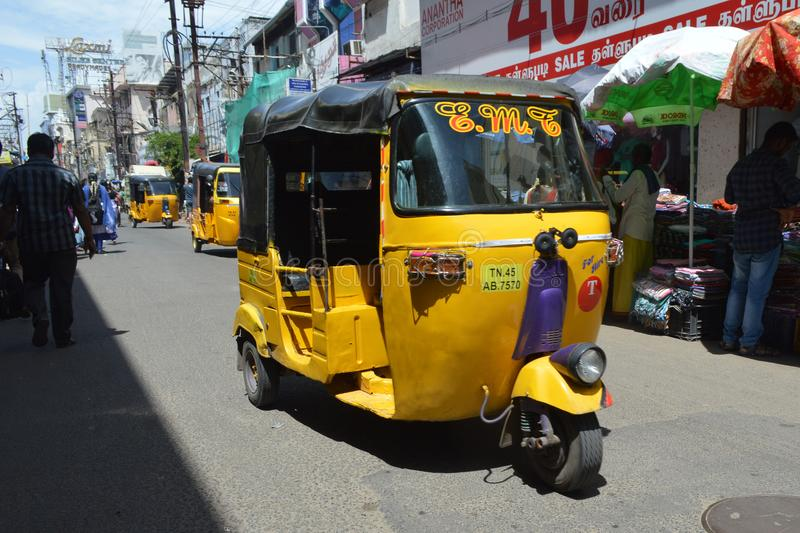auto: (236, 72, 638, 488)
numberplate: (477, 263, 533, 296)
